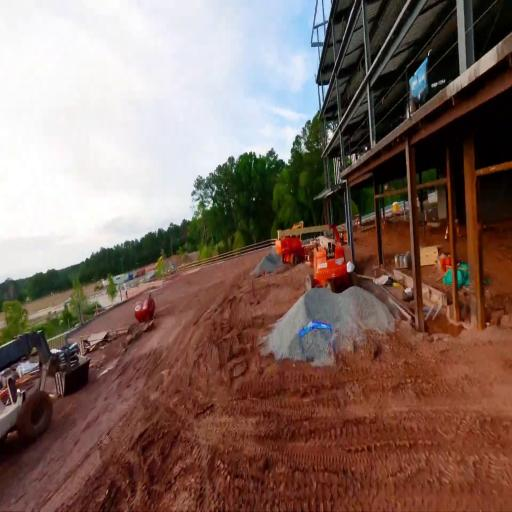uav: (298, 318, 332, 342)
